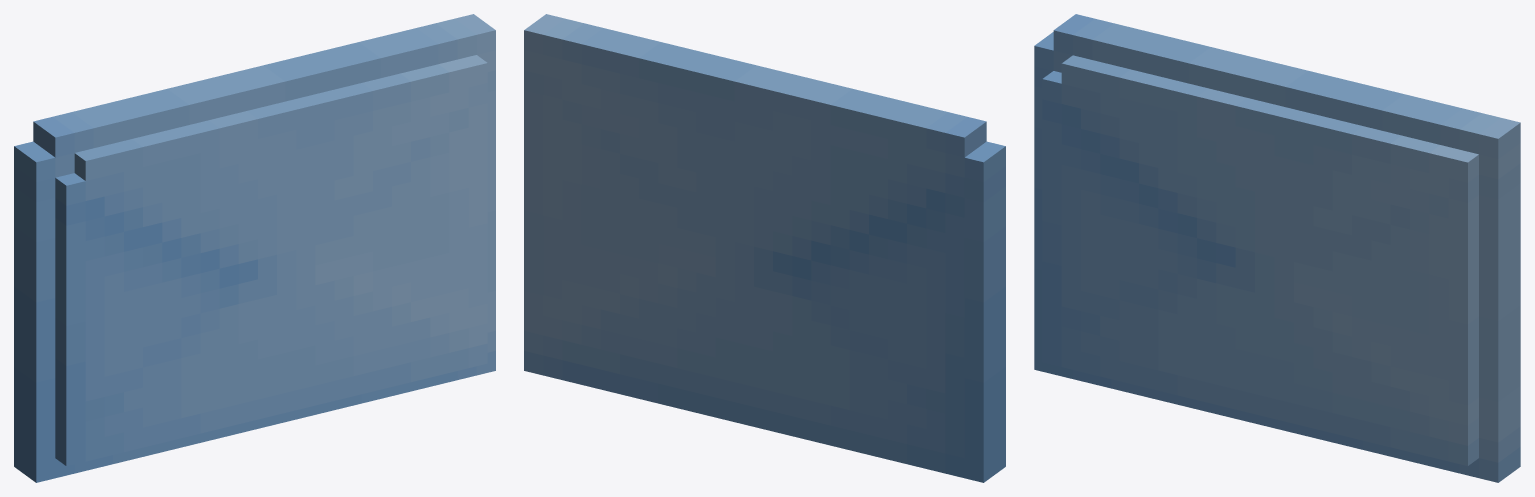
The model's file is envelope-blue.glb.
3 renders of one model, left to right at view 1: azimuth 30°, elevation 25°; view 2: azimuth 150°, elevation 25°; view 3: azimuth 330°, elevation 25°, orthographic.
Visible parts, largest first — view 1: prop; view 2: prop; view 3: prop.
Part boxes in pixels (x1,y1,x2,y2): prop: (14, 14, 495, 482); prop: (524, 14, 1005, 482); prop: (1034, 14, 1520, 482).
Size of the model in its own units: 15.53 by 11 by 1.94.
